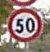limite 50: (7, 7, 42, 42)
